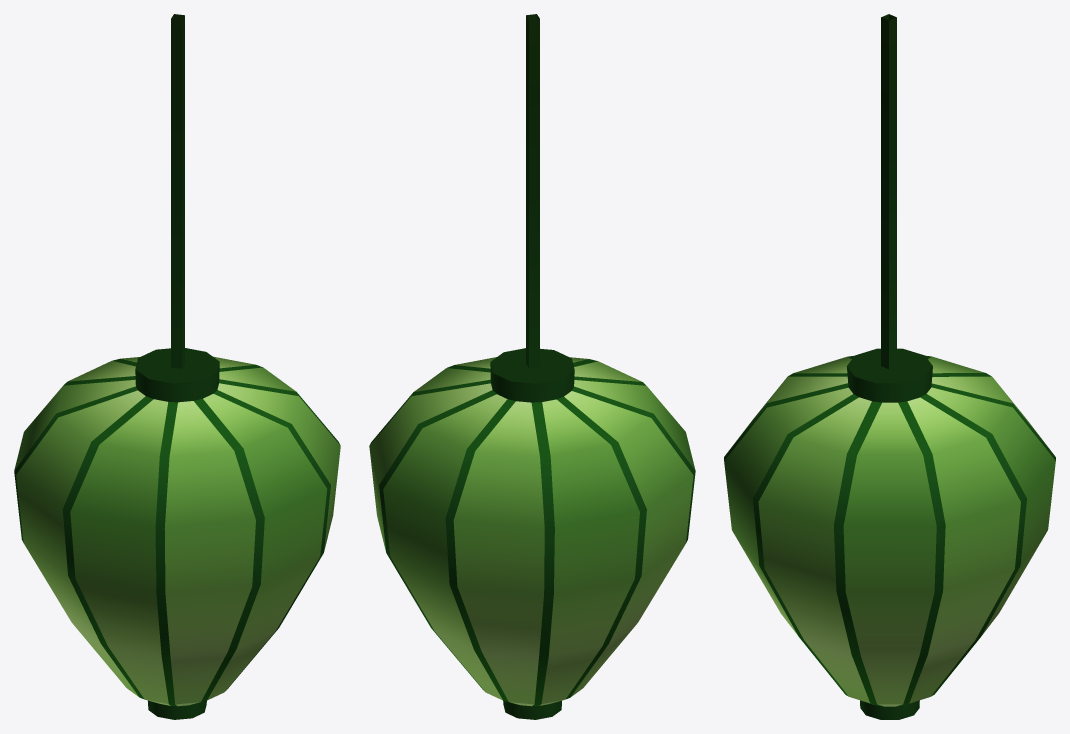
Rendered from Lantern_C_04.FBX.
The picture shows the model from 3 angles, left to right: view 1: azimuth 30°, elevation 25°; view 2: azimuth 150°, elevation 25°; view 3: azimuth 270°, elevation 25°; orthographic projection.
Visible parts, largest first — view 1: Lantern_C_04LIght, Lantern_C_04; view 2: Lantern_C_04LIght, Lantern_C_04; view 3: Lantern_C_04LIght, Lantern_C_04.
Part boxes in pixels (box(x1,y1,x2,y2)): Lantern_C_04LIght: box(14, 356, 340, 706); Lantern_C_04: box(135, 14, 219, 719); Lantern_C_04LIght: box(369, 357, 695, 706); Lantern_C_04: box(490, 14, 574, 719); Lantern_C_04LIght: box(724, 355, 1055, 706); Lantern_C_04: box(846, 14, 932, 719).
Size of the model in its own units: 40.51 by 96.91 by 42.19.
1 material, 1 textured.
